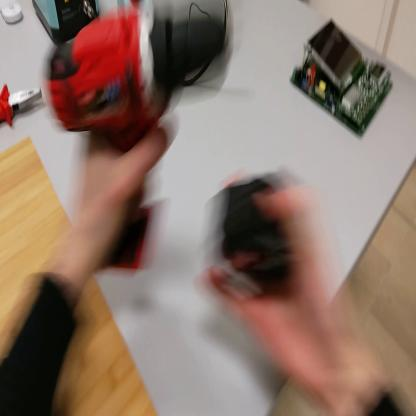electric screwdriver: (45, 2, 227, 272)
hand: (200, 175, 338, 363), (74, 114, 179, 262)
low voltage board: (288, 18, 395, 140)
pliers: (1, 82, 44, 131)
welder station: (34, 2, 99, 49)
working area: (3, 139, 159, 416)
